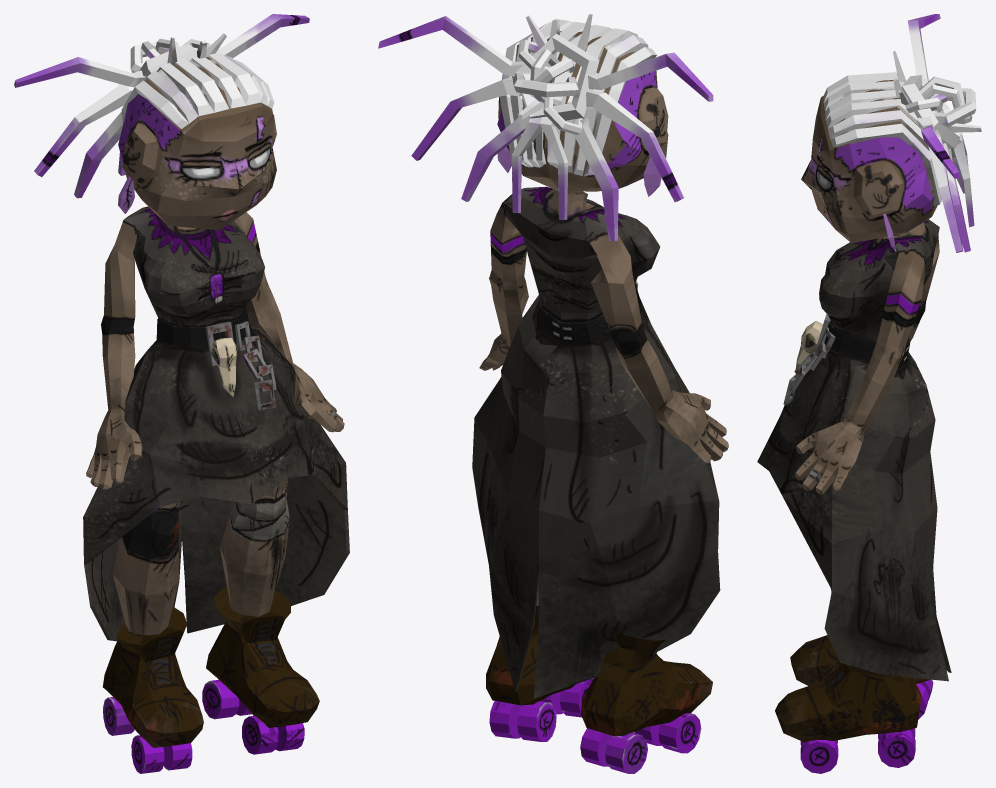
File: bruja_000042.obj
3 views of the same model, side by side, from view 1: azimuth 30°, elevation 25°; view 2: azimuth 150°, elevation 25°; view 3: azimuth 270°, elevation 25° (orthographic). The views are drawn at different scales.
Visible parts, largest first — view 1: Bruja_Plane.001; view 2: Bruja_Plane.001; view 3: Bruja_Plane.001.
Boxes of the visible parts, x1,y1,x2,y2 form: Bruja_Plane.001: (14,14,349,773); Bruja_Plane.001: (378,14,728,773); Bruja_Plane.001: (757,14,981,773).
Bounding box in the file's own units: 7.46 × 16.45 × 4.9.
